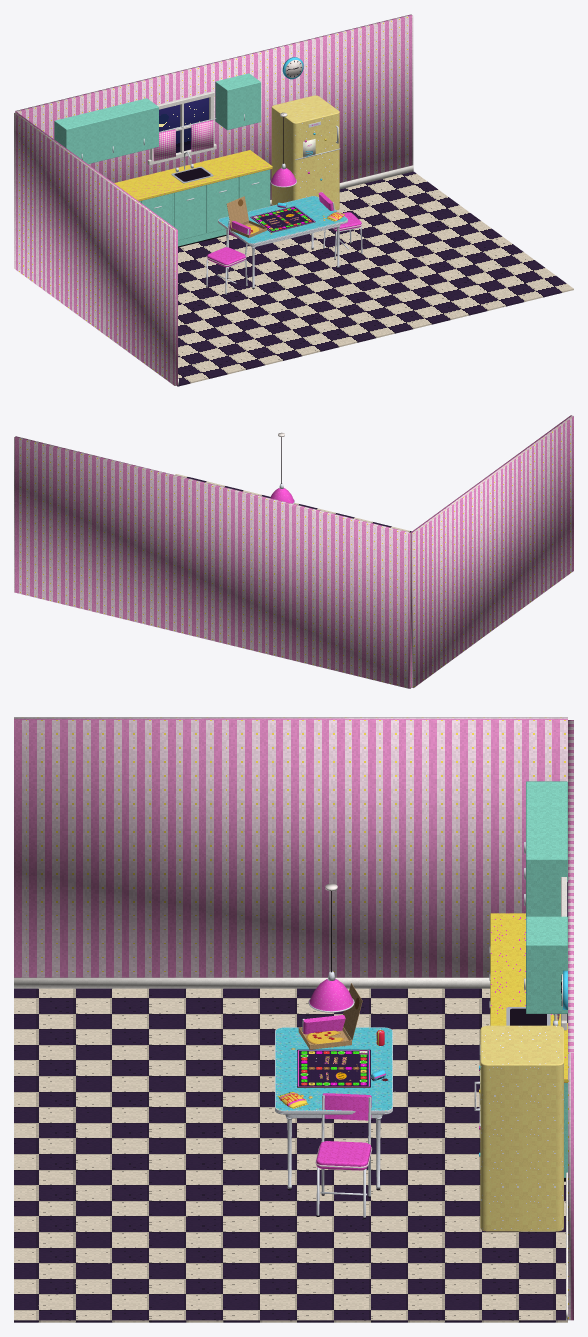
The model's file is x_bgn_kitchen.glb.
The picture shows the model from 3 angles, top to bottom: view 1: azimuth 30°, elevation 25°; view 2: azimuth 150°, elevation 25°; view 3: azimuth 270°, elevation 25°; orthographic projection. The views are drawn at different scales.
Visible parts, largest first — view 1: room, table, chairs, board, snacks, lamp; view 2: room; view 3: room, table, chairs, board, snacks, lamp.
Part boxes in pixels (x1,y1,x2,y2): room: (14, 14, 573, 386); table: (218, 196, 347, 289); chairs: (206, 192, 362, 295); board: (250, 206, 315, 232); snacks: (226, 196, 345, 237); lamp: (270, 112, 296, 187); room: (14, 415, 573, 688); room: (14, 717, 573, 1322); table: (275, 1027, 392, 1190); chairs: (302, 1015, 372, 1218); board: (297, 1049, 370, 1087); snacks: (277, 983, 388, 1108); lamp: (308, 883, 354, 1012).
Size of the model in its own units: 6.45 by 2.42 by 4.55.
Materials: 50 (37 with a texture image).
